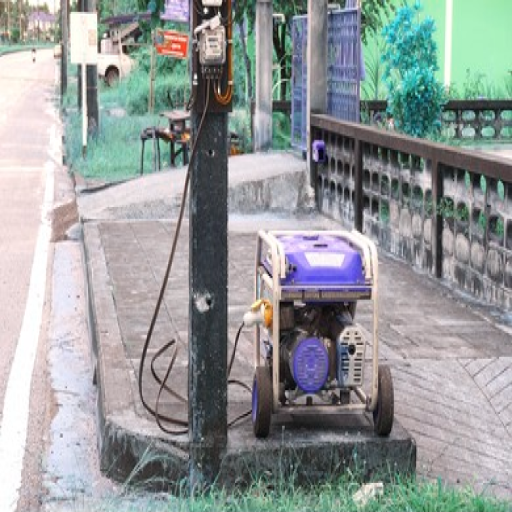portable_generator: (255, 230, 381, 417)
